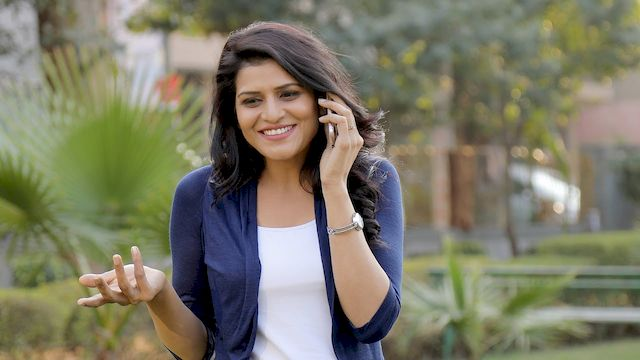phone: (319, 73, 345, 153)
talk: (233, 70, 365, 177)
